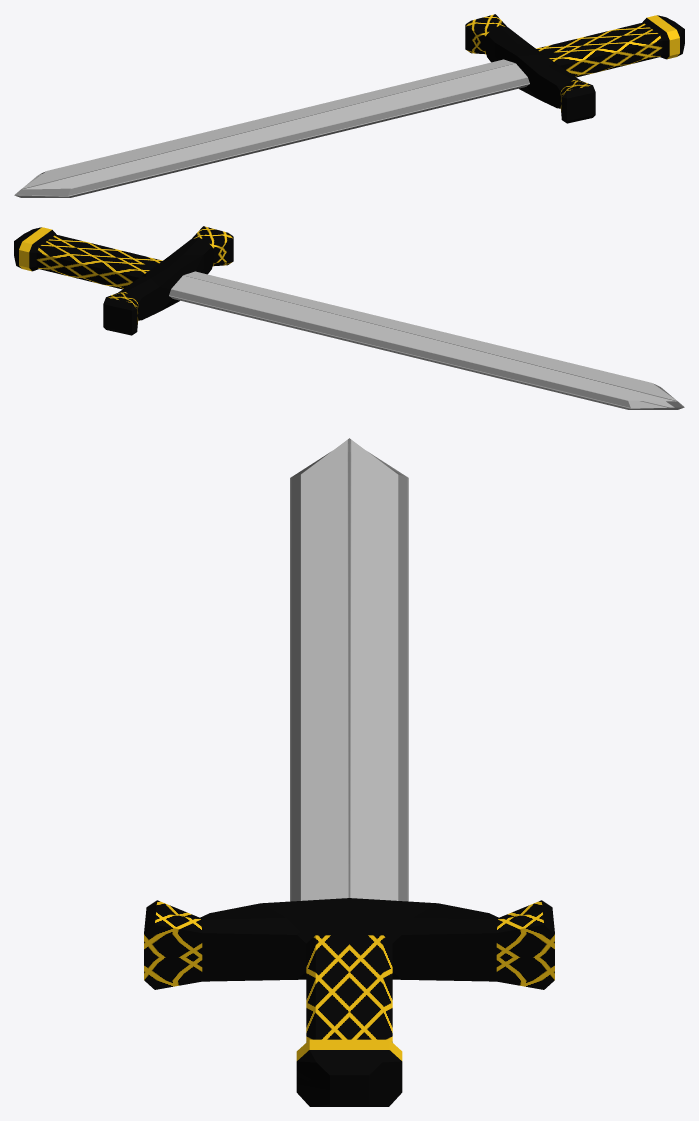
Rendered from sword.fbx.
3 views of the same model, one above another, from view 1: azimuth 30°, elevation 25°; view 2: azimuth 150°, elevation 25°; view 3: azimuth 270°, elevation 25° (orthographic). The views are drawn at different scales.
Parts seen in each view (by area): view 1: Cube; view 2: Cube; view 3: Cube.
Part boxes in pixels (x1,y1,x2,y2): Cube: [14, 14, 684, 197]; Cube: [14, 226, 684, 409]; Cube: [144, 438, 554, 1106].
Size of the model in its own units: 1734 by 81.53 by 464.
Materials: 1 (1 with a texture image).
